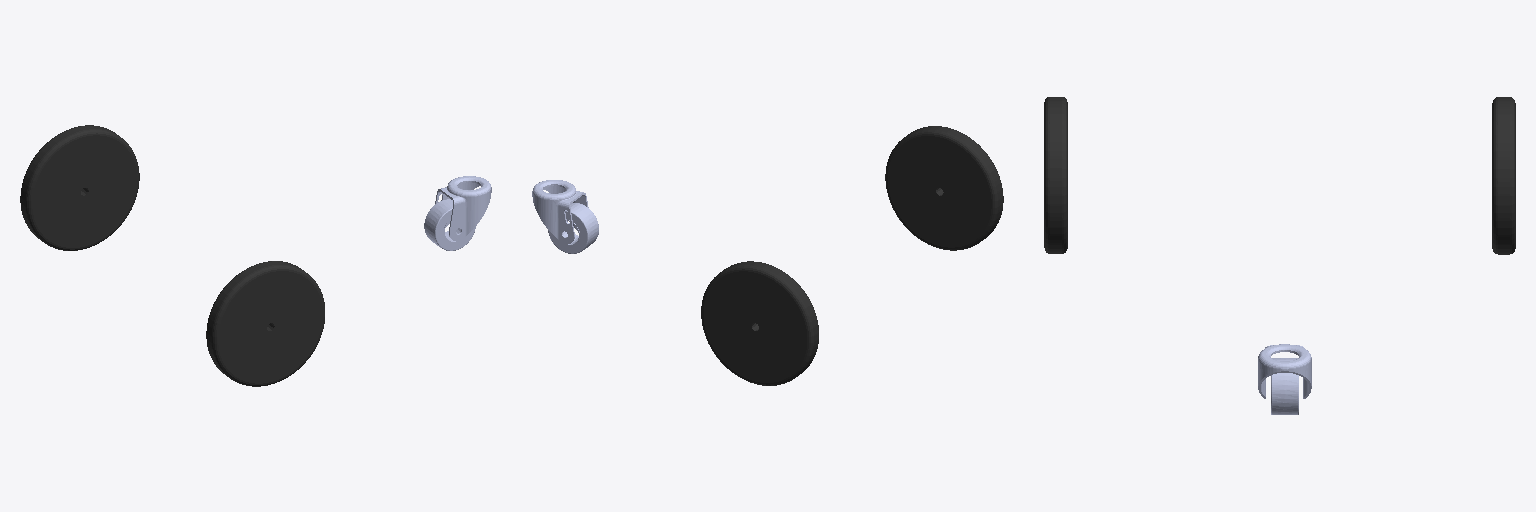
The robot description file, URDF, robot "PortaMailCombined.SLDASM":
<?xml version="1.0" encoding="utf-8"?>
<!-- This URDF was automatically created by SolidWorks to URDF Exporter! Originally created by [author] ([email redacted]) 
     Commit Version: 1.6.0-4-g7f85cfe  Build Version: 1.6.7995.38578
     For more information, please see http://wiki.ros.org/sw_urdf_exporter -->
<robot
  name="PortaMailCombined.SLDASM">
  <link
    name="base_link">
    <inertial>
      <origin
        xyz="0.0063630754897825 -5.21295585675999E-05 0.227333133323625"
        rpy="0 0 0" />
      <mass
        value="26.9888276340048" />
      <inertia
        ixx="0.619289783520866"
        ixy="-8.46743686350242E-06"
        ixz="0.00620469301165874"
        iyy="0.668317680969144"
        iyz="-3.8099314253087E-05"
        izz="0.98303158566789" />
    </inertial>
    <visual>
      <origin
        xyz="0 0 0"
        rpy="0 0 0" />
      <geometry>
        <mesh
          filename="package://PortaMailCombined.SLDASM/meshes/base_link.STL" />
      </geometry>
      <material
        name="">
        <color
          rgba="0.749019607843137 0.749019607843137 0.749019607843137 1" />
      </material>
    </visual>
    <collision>
      <origin
        xyz="0 0 0"
        rpy="0 0 0" />
      <geometry>
        <mesh
          filename="package://PortaMailCombined.SLDASM/meshes/base_link.STL" />
      </geometry>
    </collision>
  </link>
  <link
    name="left_wheel">
    <inertial>
      <origin
        xyz="-5.00000000008827E-06 -0.000622719000890976 0.00272000000000006"
        rpy="0 0 0" />
      <mass
        value="0.588934998326518" />
      <inertia
        ixx="0.00112906781404818"
        ixy="-1.46165672188879E-34"
        ixz="3.72586046656329E-18"
        iyy="0.00112906781404818"
        iyz="1.19226945933937E-20"
        izz="0.00219619666423353" />
    </inertial>
    <visual>
      <origin
        xyz="0 0 0"
        rpy="0 0 0" />
      <geometry>
        <mesh
          filename="package://PortaMailCombined.SLDASM/meshes/left_wheel.STL" />
      </geometry>
      <material
        name="">
        <color
          rgba="0.250980392156863 0.250980392156863 0.250980392156863 1" />
      </material>
    </visual>
    <collision>
      <origin
        xyz="0 0 0"
        rpy="0 0 0" />
      <geometry>
        <mesh
          filename="package://PortaMailCombined.SLDASM/meshes/left_wheel.STL" />
      </geometry>
    </collision>
  </link>
  <joint
    name="left_wheel_joint"
    type="continuous">
    <origin
      xyz="-0.20717 0.24396 0.08439"
      rpy="1.5708 0 0" />
    <parent
      link="base_link" />
    <child
      link="left_wheel" />
    <axis
      xyz="0 0 1" />
  </joint>
  <link
    name="right_wheel">
    <inertial>
      <origin
        xyz="-5.00000000092093E-06 -0.000309216983811395 -0.248563206918676"
        rpy="0 0 0" />
      <mass
        value="1.17786999665304" />
      <inertia
        ixx="0.00225813562809636"
        ixy="-3.2240422475964E-33"
        ixz="6.35641910110874E-18"
        iyy="0.00225813562809636"
        iyz="-1.04456085598386E-18"
        izz="0.00439239332846706" />
    </inertial>
    <visual>
      <origin
        xyz="0 0 0"
        rpy="0 0 0" />
      <geometry>
        <mesh
          filename="package://PortaMailCombined.SLDASM/meshes/right_wheel.STL" />
      </geometry>
      <material
        name="">
        <color
          rgba="0.250980392156863 0.250980392156863 0.250980392156863 1" />
      </material>
    </visual>
    <collision>
      <origin
        xyz="0 0 0"
        rpy="0 0 0" />
      <geometry>
        <mesh
          filename="package://PortaMailCombined.SLDASM/meshes/right_wheel.STL" />
      </geometry>
    </collision>
  </link>
  <joint
    name="right_wheel_joint"
    type="continuous">
    <origin
      xyz="-0.20717 -0.25408 0.084386"
      rpy="1.5708 0 0" />
    <parent
      link="base_link" />
    <child
      link="right_wheel" />
    <axis
      xyz="0 0 -1" />
  </joint>
  <link
    name="caster_swivel">
    <inertial>
      <origin
        xyz="-0.010025817396546 -0.000341002844053785 -0.0141426235576368"
        rpy="0 0 0" />
      <mass
        value="0.0207150422696725" />
      <inertia
        ixx="1.66647080870315E-05"
        ixy="-1.61273485125663E-07"
        ixz="-3.37716878778582E-06"
        iyy="1.41653051172085E-05"
        iyz="-3.8830017129783E-08"
        izz="1.66086319394758E-05" />
    </inertial>
    <visual>
      <origin
        xyz="0 0 0"
        rpy="0 0 0" />
      <geometry>
        <mesh
          filename="package://PortaMailCombined.SLDASM/meshes/caster_swivel.STL" />
      </geometry>
      <material
        name="">
        <color
          rgba="0.792156862745098 0.819607843137255 0.933333333333333 1" />
      </material>
    </visual>
    <collision>
      <origin
        xyz="0 0 0"
        rpy="0 0 0" />
      <geometry>
        <mesh
          filename="package://PortaMailCombined.SLDASM/meshes/caster_swivel.STL" />
      </geometry>
    </collision>
  </link>
  <joint
    name="caster_swivel_joint"
    type="continuous">
    <origin
      xyz="0.25024 -6.9235E-05 0.073856"
      rpy="0 0 0" />
    <parent
      link="base_link" />
    <child
      link="caster_swivel" />
    <axis
      xyz="0 0 -1" />
  </joint>
  <link
    name="caster_wheel">
    <inertial>
      <origin
        xyz="0 0 6.93889390390723E-18"
        rpy="0 0 0" />
      <mass
        value="0.0661095439760222" />
      <inertia
        ixx="2.65274021094605E-05"
        ixy="-8.53413928790277E-22"
        ixz="1.19173199824834E-19"
        iyy="2.65274021094605E-05"
        iyz="5.62680425214823E-22"
        izz="4.2998993312912E-05" />
    </inertial>
    <visual>
      <origin
        xyz="0 0 0"
        rpy="0 0 0" />
      <geometry>
        <mesh
          filename="package://PortaMailCombined.SLDASM/meshes/caster_wheel.STL" />
      </geometry>
      <material
        name="">
        <color
          rgba="0.792156862745098 0.819607843137255 0.933333333333333 1" />
      </material>
    </visual>
    <collision>
      <origin
        xyz="0 0 0"
        rpy="0 0 0" />
      <geometry>
        <mesh
          filename="package://PortaMailCombined.SLDASM/meshes/caster_wheel.STL" />
      </geometry>
    </collision>
  </link>
  <joint
    name="caster_wheel_joint"
    type="continuous">
    <origin
      xyz="-0.0294640000000008 0 -0.0466424325660239"
      rpy="1.5707963267949 0 0" />
    <parent
      link="caster_swivel" />
    <child
      link="caster_wheel" />
    <axis
      xyz="0 0 -1" />
  </joint>
</robot>

--- Facts derived from the render (not from the file) ---
The picture shows the robot from 3 angles, left to right: view 1: azimuth 30°, elevation 25°; view 2: azimuth 150°, elevation 25°; view 3: azimuth 270°, elevation 25°; orthographic projection.
Model PortaMailCombined.SLDASM with 5 links and 4 joints (4 continuous), rooted at base_link, posed every joint at zero.
Visible links, largest first — view 1: right_wheel, left_wheel, caster_swivel, caster_wheel; view 2: right_wheel, left_wheel, caster_swivel, caster_wheel; view 3: right_wheel, caster_swivel, caster_wheel, left_wheel.
Link boxes in pixels (box(x1,y1,x2,y2)): right_wheel: box(20, 125, 324, 386); left_wheel: box(20, 135, 139, 250); caster_swivel: box(435, 176, 491, 240); caster_wheel: box(424, 199, 475, 250); right_wheel: box(701, 126, 1003, 382); left_wheel: box(701, 271, 818, 385); caster_swivel: box(532, 180, 588, 244); caster_wheel: box(548, 203, 598, 253); right_wheel: box(1044, 97, 1515, 253); caster_swivel: box(1258, 344, 1311, 398); caster_wheel: box(1271, 358, 1298, 414); left_wheel: box(1492, 195, 1515, 254).
Size in the robot's own frame: 0.5736 by 0.5189 by 0.1756 metres.
4 mesh visuals loaded from 5 distinct referenced files (4 binary STL); not drawn: 1 (reference not matched to a file when rendering).